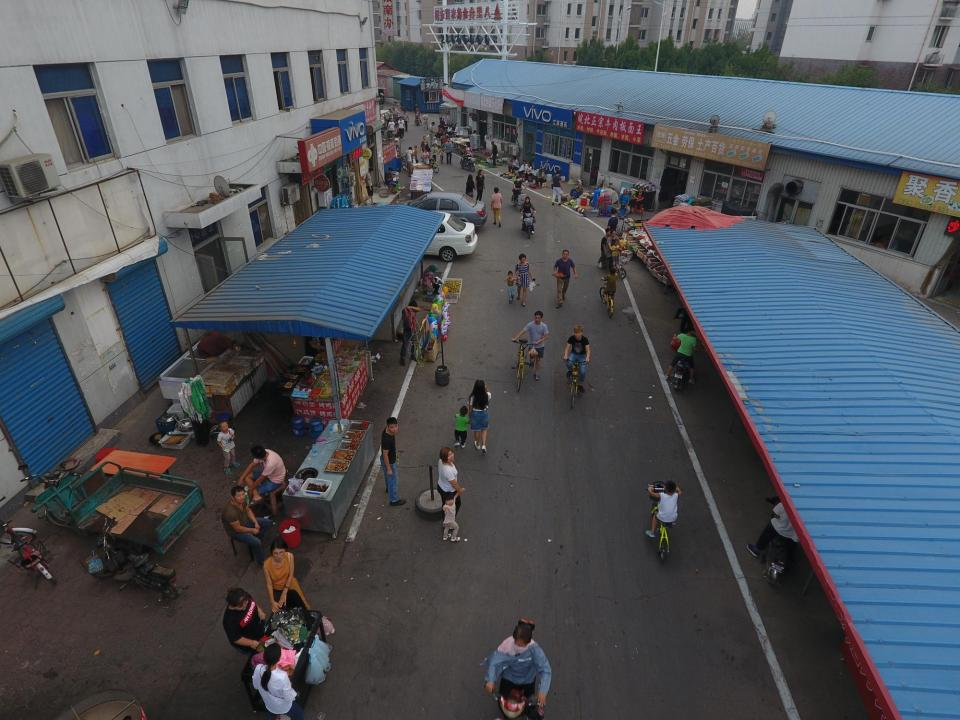car: (370, 212, 479, 262), (388, 191, 488, 231)
van: (366, 86, 386, 105)
